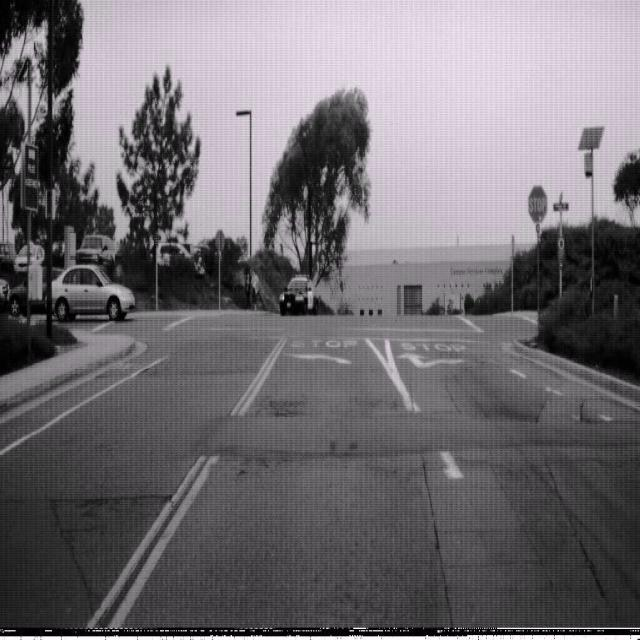stop_sign: (527, 183, 547, 224)
